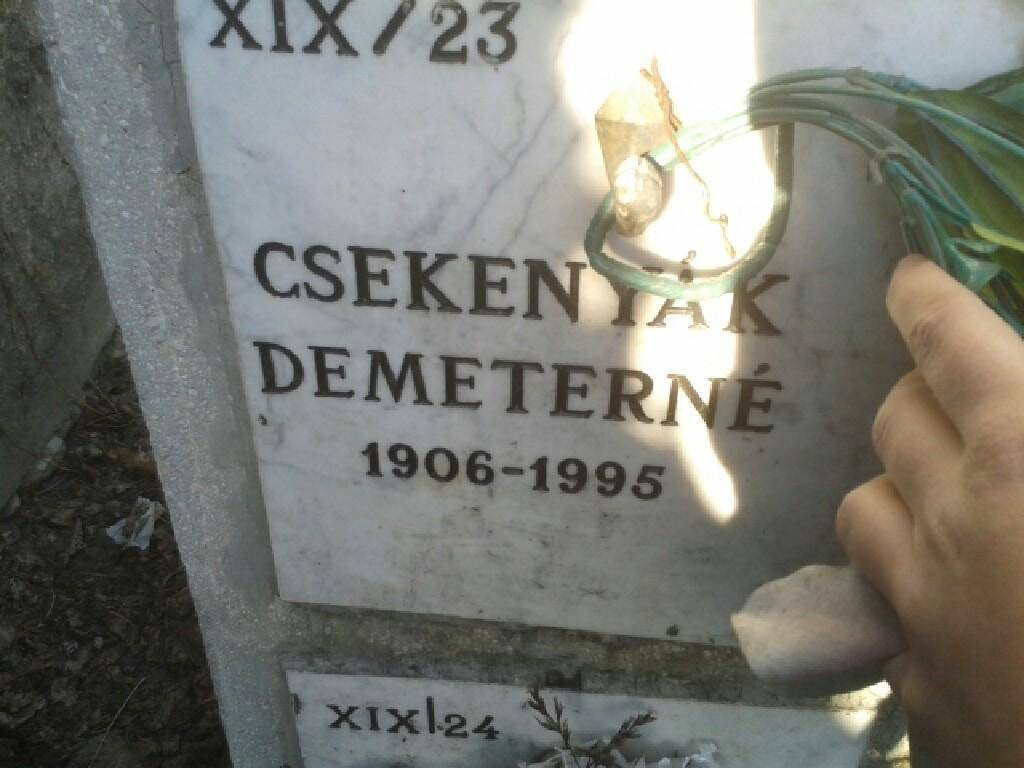plaque: (170, 0, 1024, 637)
